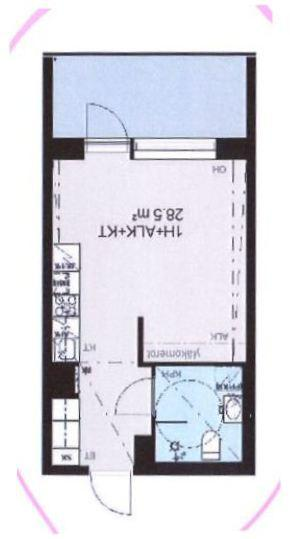bathroom: (155, 366, 243, 465)
door: (83, 99, 134, 156), (85, 464, 137, 518), (110, 376, 158, 424)
perimeter: (41, 135, 256, 474)
window: (131, 131, 222, 166)
